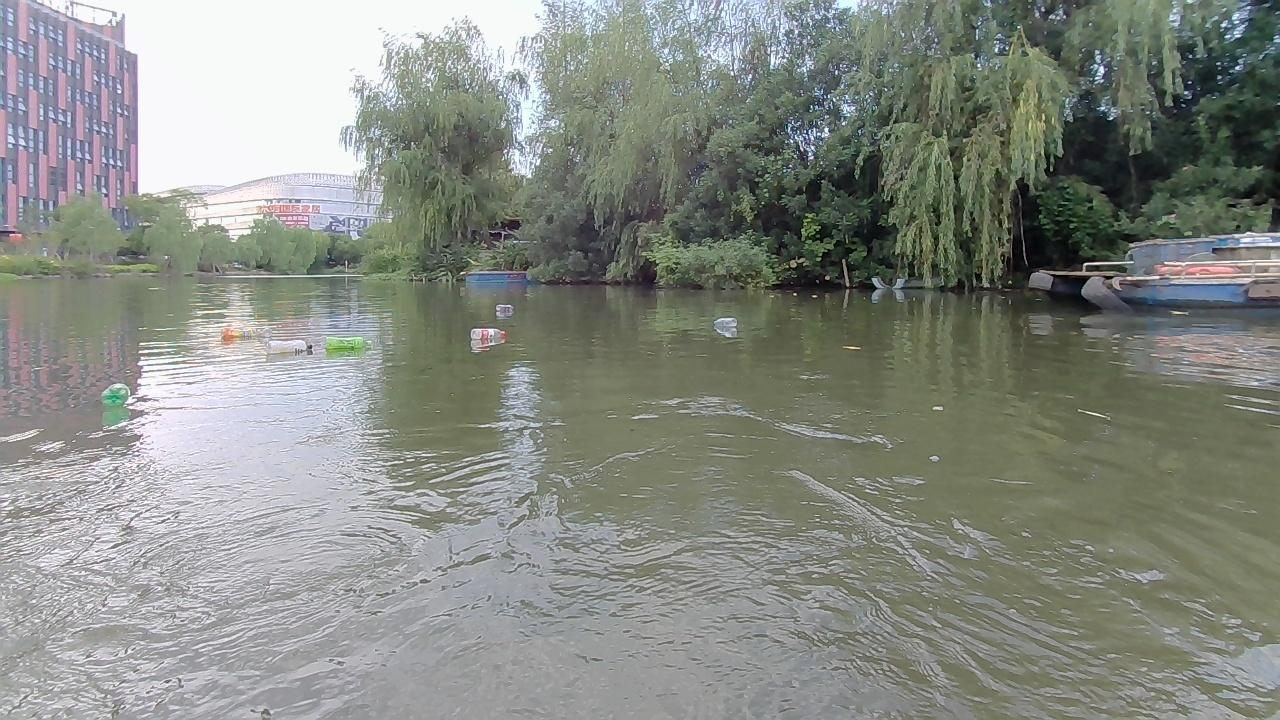bottle: (256, 335, 311, 360), (321, 331, 375, 352), (216, 321, 266, 341), (101, 382, 132, 410), (468, 325, 506, 344), (711, 315, 743, 332), (494, 301, 520, 318)
